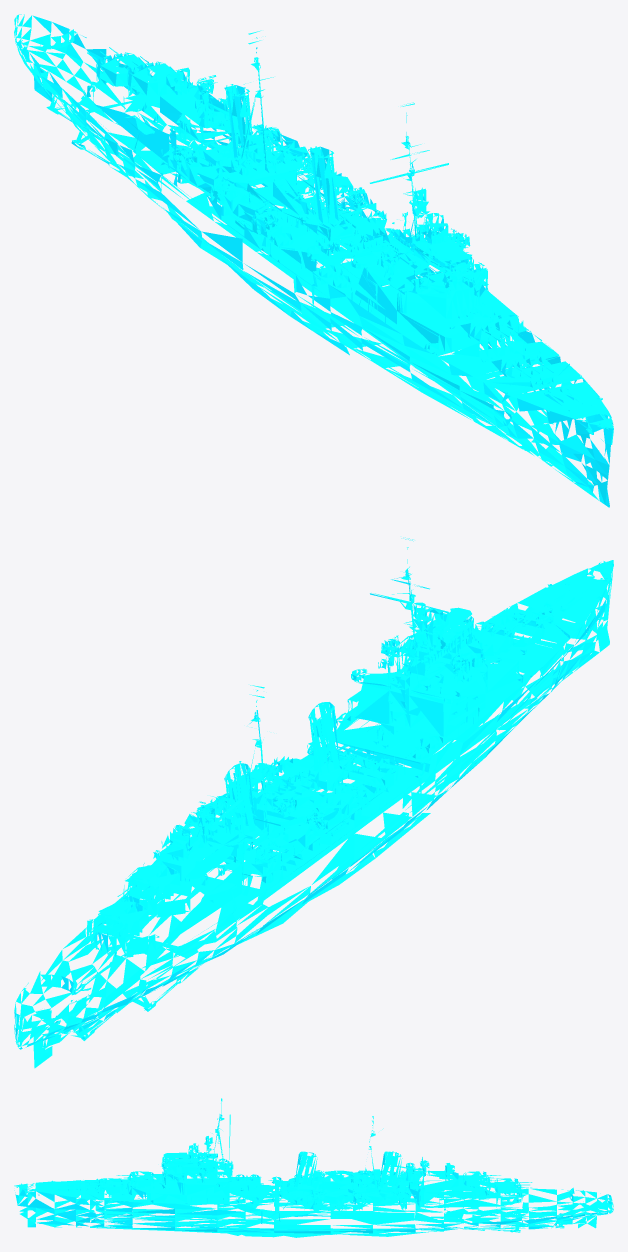
Rendered from PBSC528.glb.
3 views of the same model, one above another, from view 1: azimuth 30°, elevation 25°; view 2: azimuth 150°, elevation 25°; view 3: azimuth 270°, elevation 25° (orthographic). The views are drawn at different scales.
Visible parts, largest first — view 1: hull, turret; view 2: hull, turret; view 3: hull, turret.
Part boxes in pixels (<box>): hull: <box>14,14,613,507</box>; turret: <box>87,47,553,377</box>; hull: <box>14,537,613,1068</box>; turret: <box>86,607,553,938</box>; hull: <box>14,1098,613,1237</box>; turret: <box>85,1168,532,1203</box>.
Bounding box in the file's own units: 1.53 × 2.98 × 12.46.
